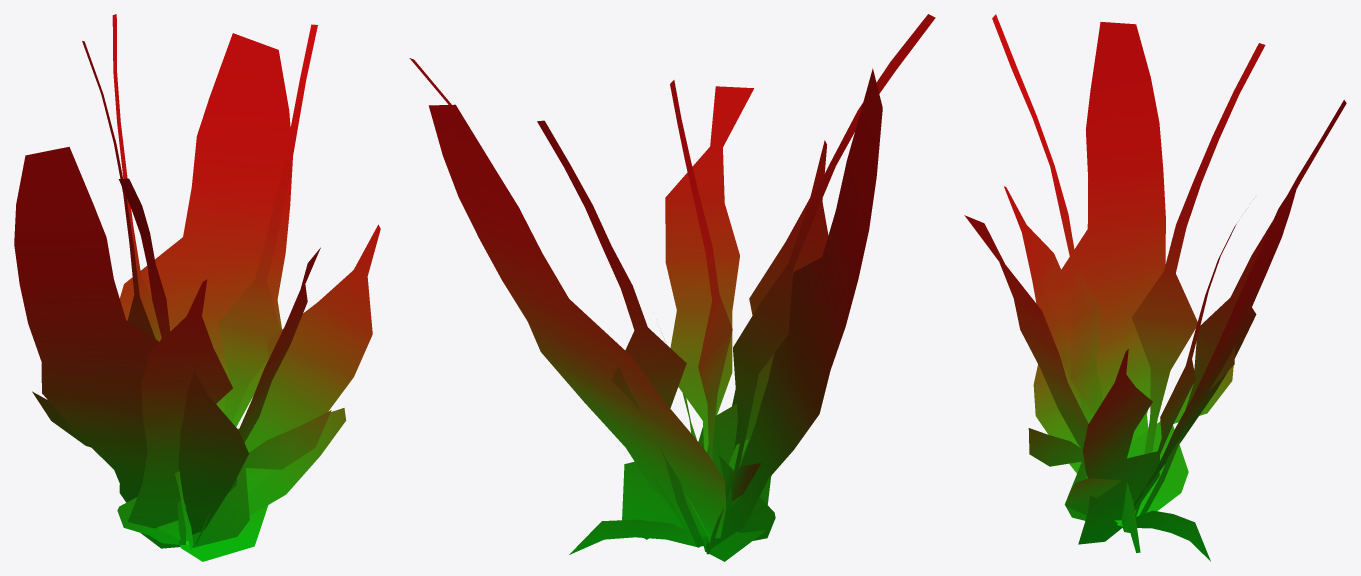
Rendered from tl2jbhcja_Var2_LOD0.fbx.
The picture shows the model from 3 angles, left to right: view 1: azimuth 30°, elevation 25°; view 2: azimuth 150°, elevation 25°; view 3: azimuth 270°, elevation 25°; orthographic projection. The views are drawn at different scales.
Parts seen in each view (by area): view 1: _f9f7_Var2_LOD0; view 2: _f9f7_Var2_LOD0; view 3: _f9f7_Var2_LOD0.
Boxes of the visible parts, box(x1,y1,x2,y2) form: _f9f7_Var2_LOD0: box(14, 14, 380, 561); _f9f7_Var2_LOD0: box(409, 14, 935, 561); _f9f7_Var2_LOD0: box(964, 14, 1346, 561).
Bounding box in the file's own units: 36.12 × 46.28 × 33.56.
